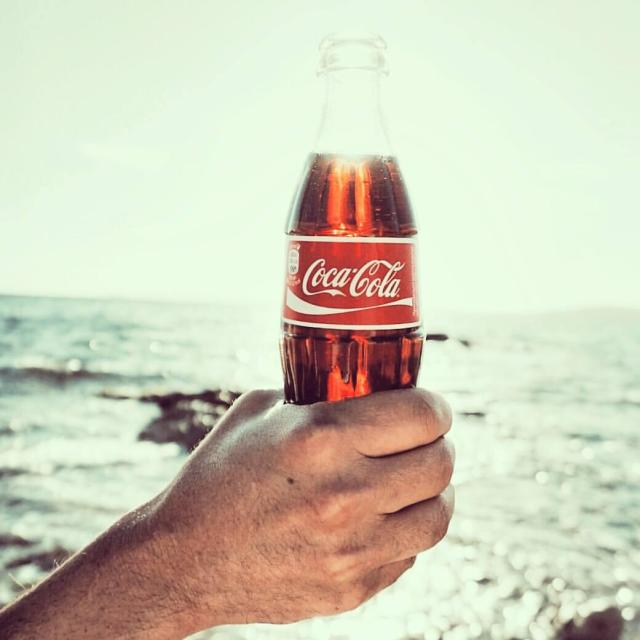coca-cola: (274, 27, 426, 407)
